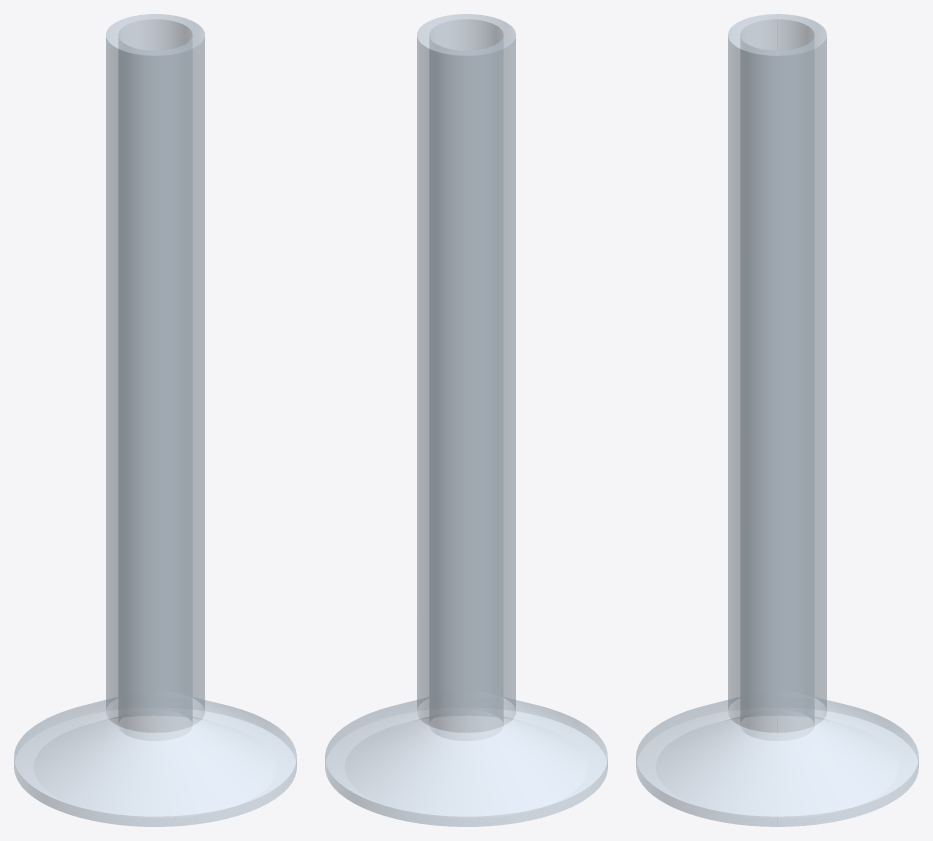
The model's file is mixer_part3_bell_cannula.glb.
3 views of the same model, side by side, from view 1: azimuth 30°, elevation 25°; view 2: azimuth 150°, elevation 25°; view 3: azimuth 270°, elevation 25° (orthographic).
Visible parts, largest first — view 1: mixer_part3_bell_cannula; view 2: mixer_part3_bell_cannula; view 3: mixer_part3_bell_cannula.
Part boxes in pixels (x1,y1,x2,y2): mixer_part3_bell_cannula: (14, 14, 296, 826); mixer_part3_bell_cannula: (325, 14, 607, 826); mixer_part3_bell_cannula: (636, 14, 918, 826).
Bounding box in the file's own units: 0.0114 × 0.0326 × 0.0114.
